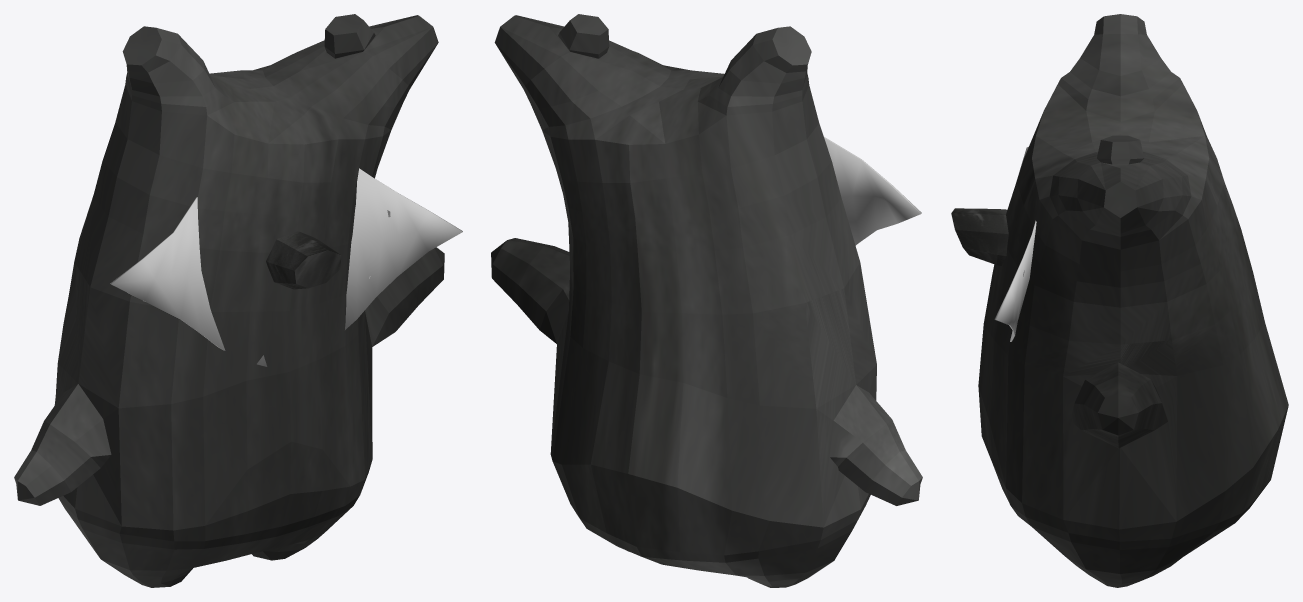
The model's file is frame_0067.obj.
The picture shows the model from 3 angles, left to right: view 1: azimuth 30°, elevation 25°; view 2: azimuth 150°, elevation 25°; view 3: azimuth 270°, elevation 25°; orthographic projection. The views are drawn at different scales.
Visible parts, largest first — view 1: korok, leaf, nose; view 2: korok, leaf; view 3: korok, nose, leaf.
Part boxes in pixels (<box>): korok: <box>14,14,444,587</box>; leaf: <box>110,168,462,366</box>; nose: <box>266,231,341,289</box>; korok: <box>491,14,922,587</box>; leaf: <box>824,137,921,245</box>; korok: <box>978,14,1288,587</box>; nose: <box>951,208,1008,265</box>; leaf: <box>994,146,1036,341</box>.
Bounding box in the file's own units: 1.72 × 2.15 × 1.27.
